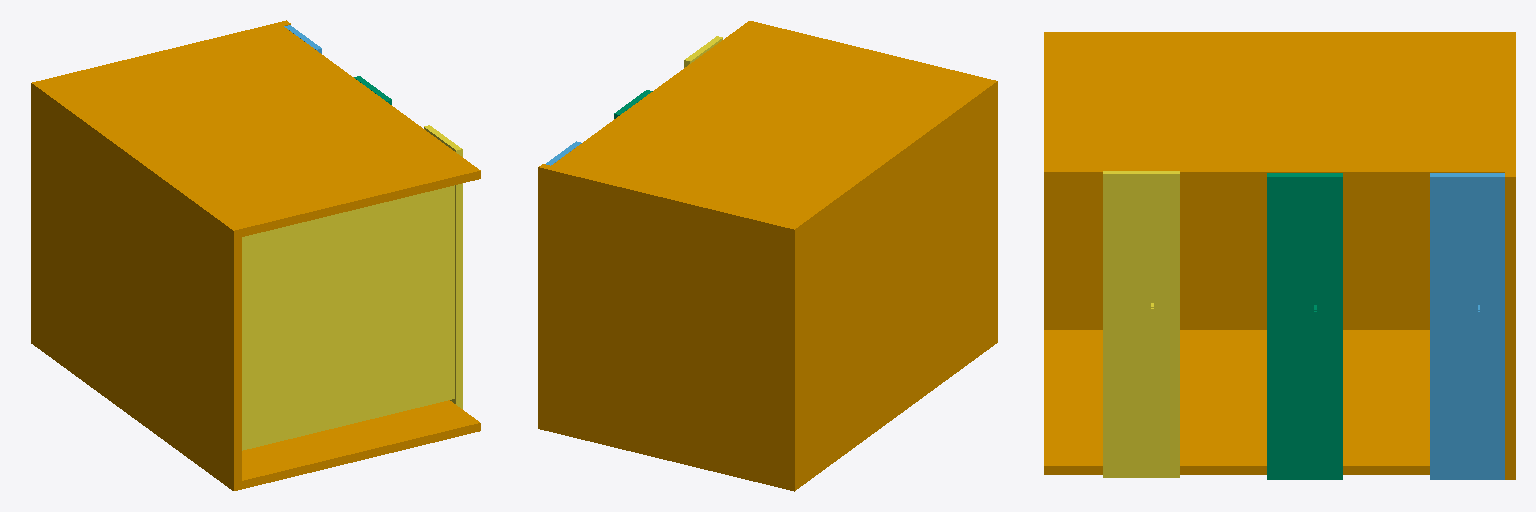
URDF robot description (mk_station):
<robot name="mk_station" version="1.0">
  <joint name="top_drawer_joint" type="prismatic">
    <limit lower="0" upper="0.5" effort="0.00000" velocity="0.00000"/>
    <origin rpy="0.00000 0.00000 0.00000" xyz="0.00000 0.00000 0.66800"/>
    <parent link="body"/>
    <child link="top_drawer"/>
    <axis xyz="1.00000 0.00000 0.00000"/>
  </joint>
  <joint name="middle_drawer_joint" type="prismatic">
    <limit lower="0" upper="0.5" effort="0.00000" velocity="0.00000"/>
    <origin rpy="0.00000 0.00000 0.00000" xyz="0.00000 0.00000 0.42300"/>
    <parent link="body"/>
    <child link="middle_drawer"/>
    <axis xyz="1.00000 0.00000 0.00000"/>
  </joint>
  <joint name="bottom_drawer_joint" type="prismatic">
    <limit lower="0" upper="0.5" effort="0.00000" velocity="0.00000"/>
    <origin rpy="0.00000 0.00000 0.00000" xyz="0.00000 0.00000 0.17800"/>
    <parent link="body"/>
    <child link="bottom_drawer"/>
    <axis xyz="1.00000 0.00000 0.00000"/>
  </joint>
  <link name="body">
    <visual>
      <origin xyz="0. 0. 0.855" rpy="0. 0. 0."/>
      <geometry>
        <mesh filename="meshes/body.obj"/>
      </geometry>
    </visual>
    <collision>
      <origin xyz="0. 0. 0.855" rpy="0. 0. 0."/>
      <geometry>
        <mesh filename="meshes/body.obj"/>
      </geometry>
    </collision>
  </link>
  <link name="top_drawer">
    <visual>
      <origin xyz="0.0 0.6 0.185 " rpy="0. 0. 0."/>
      <geometry>
        <mesh filename="meshes/drawer.obj"/>
      </geometry>
    </visual>
    <collision>
      <origin xyz="0.0 0.6 0.185 " rpy="0. 0. 0."/>
      <geometry>
        <mesh filename="meshes/drawer.obj"/>
      </geometry>
    </collision>
  </link>
  <link name="middle_drawer">
    <visual>
      <origin xyz="0.0 0.3 0.43 " rpy="0. 0. 0."/>
      <geometry>
        <mesh filename="meshes/drawer.obj"/>
      </geometry>
    </visual>
    <collision>
      <origin xyz="0.0 0.3 0.43 " rpy="0. 0. 0."/>
      <geometry>
        <mesh filename="meshes/drawer.obj"/>
      </geometry>
    </collision>
  </link>
  <link name="bottom_drawer">
    <visual>
      <origin xyz="0.0 0.0 0.68" rpy="0. 0. 0."/>
      <geometry>
        <mesh filename="meshes/drawer.obj"/>
      </geometry>
    </visual>
    <collision>
      <origin xyz="0.0 0.0 0.68" rpy="0. 0. 0."/>
      <geometry>
        <mesh filename="meshes/drawer.obj"/>
      </geometry>
    </collision>
  </link>
</robot>

--- Facts derived from the render (not from the file) ---
The picture shows the robot from 3 angles, left to right: view 1: azimuth 30°, elevation 25°; view 2: azimuth 150°, elevation 25°; view 3: azimuth 270°, elevation 25°; orthographic projection.
Model mk_station with 4 links and 3 joints (3 prismatic), rooted at body, posed all joints at 0.
Links seen in each view (by area): view 1: body, bottom_drawer; view 2: body; view 3: body, bottom_drawer, middle_drawer, top_drawer.
Link boxes in pixels (left/top/right/bottom): body: left=31, top=20, right=480, bottom=490; bottom_drawer: left=242, top=125, right=462, bottom=450; body: left=538, top=21, right=997, bottom=491; body: left=1044, top=32, right=1515, bottom=479; bottom_drawer: left=1103, top=171, right=1179, bottom=477; middle_drawer: left=1267, top=173, right=1342, bottom=479; top_drawer: left=1430, top=173, right=1504, bottom=479.
Bounding box of the posed robot: 0.66 × 0.865 × 0.62 m (x, y, z).
Meshes: 2 distinct files referenced, 4 mesh visuals loaded (2 OBJ).
